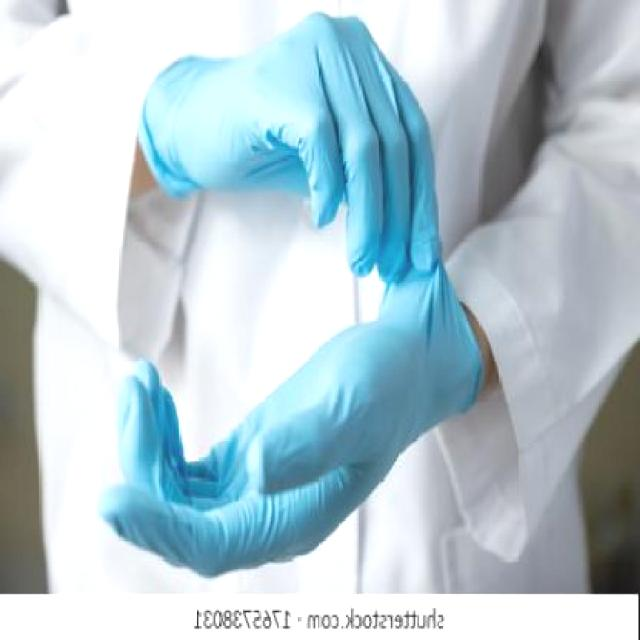glove: (92, 282, 480, 580), (132, 9, 453, 282)
